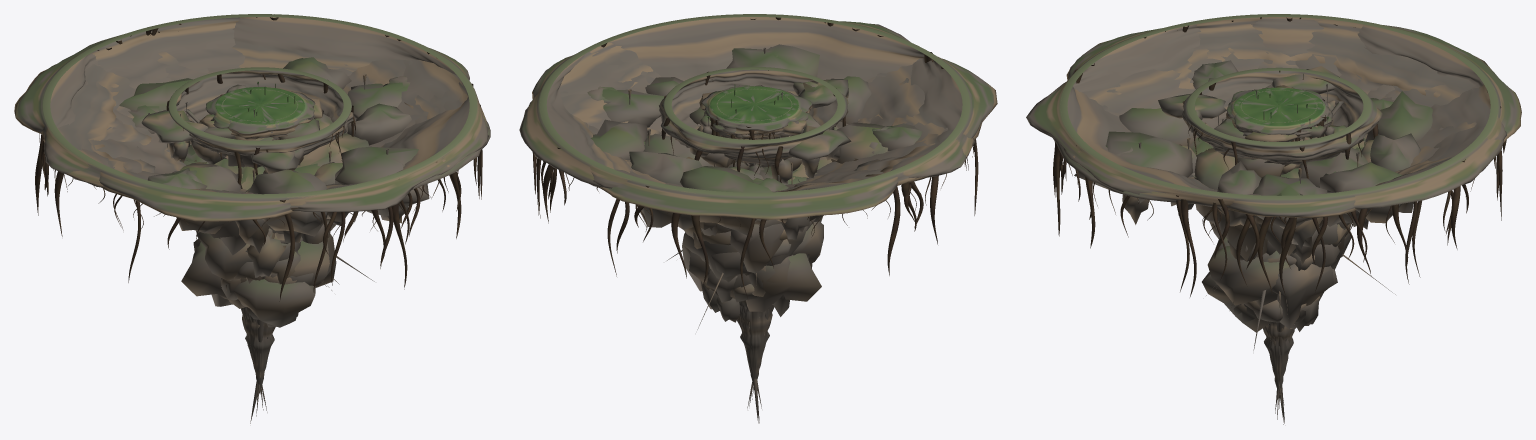
Rendered from arch_vh_island.330bac2f08.glb.
3 views of the same model, side by side, from view 1: azimuth 30°, elevation 25°; view 2: azimuth 150°, elevation 25°; view 3: azimuth 270°, elevation 25° (orthographic).
Parts seen in each view (by area): view 1: vhrock_kinh_ho_dao, vhrock_thach_quy_dao, vhrock_tung_dai_dao, vhrock_kinh_ngu_dai, vhrock_hub, vhrock_loi_van_dao, vhfake_a, vhfake_b, vhrock_tieu_dao; view 2: vhrock_kinh_ho_dao, vhrock_tung_dai_dao, vhrock_kinh_ngu_dai, vhrock_hub, vhrock_thach_quy_dao, vhrock_loi_van_dao, vhfake_b, vhfake_a, vhrock_tieu_dao; view 3: vhrock_kinh_ho_dao, vhrock_kinh_ngu_dai, vhrock_loi_van_dao, vhrock_thach_quy_dao, vhrock_tung_dai_dao, vhrock_hub, vhfake_a, vhfake_b, vhrock_tieu_dao.
Part boxes in pixels (bbox=[...]): vhrock_kinh_ho_dao: bbox=[14, 14, 482, 301]; vhrock_thach_quy_dao: bbox=[43, 17, 488, 255]; vhrock_tung_dai_dao: bbox=[39, 17, 476, 308]; vhrock_kinh_ngu_dai: bbox=[46, 17, 490, 394]; vhrock_hub: bbox=[141, 67, 355, 184]; vhrock_loi_van_dao: bbox=[56, 35, 476, 423]; vhfake_a: bbox=[204, 81, 319, 167]; vhfake_b: bbox=[210, 87, 315, 159]; vhrock_tieu_dao: bbox=[199, 83, 323, 167]; vhrock_kinh_ho_dao: bbox=[532, 14, 997, 278]; vhrock_tung_dai_dao: bbox=[532, 22, 978, 311]; vhrock_kinh_ngu_dai: bbox=[519, 17, 974, 389]; vhrock_hub: bbox=[659, 67, 851, 183]; vhrock_thach_quy_dao: bbox=[540, 14, 973, 235]; vhrock_loi_van_dao: bbox=[535, 42, 969, 423]; vhfake_b: bbox=[701, 86, 808, 139]; vhfake_a: bbox=[700, 84, 820, 164]; vhrock_tieu_dao: bbox=[697, 88, 812, 166]; vhrock_kinh_ho_dao: bbox=[1059, 14, 1521, 296]; vhrock_kinh_ngu_dai: bbox=[1053, 17, 1503, 397]; vhrock_loi_van_dao: bbox=[1060, 17, 1498, 424]; vhrock_thach_quy_dao: bbox=[1026, 14, 1506, 261]; vhrock_tung_dai_dao: bbox=[1054, 17, 1502, 292]; vhrock_hub: bbox=[1158, 66, 1382, 178]; vhfake_a: bbox=[1214, 85, 1334, 140]; vhfake_b: bbox=[1227, 87, 1332, 141]; vhrock_tieu_dao: bbox=[1226, 85, 1330, 141].
Size of the model in its own units: 460 by 351 by 476.
